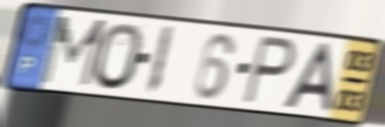6: (192, 31, 238, 102)
A: (280, 41, 335, 116)
I: (142, 24, 176, 98)
M: (37, 14, 109, 90)
O: (91, 21, 145, 93)
P: (240, 33, 299, 108)
